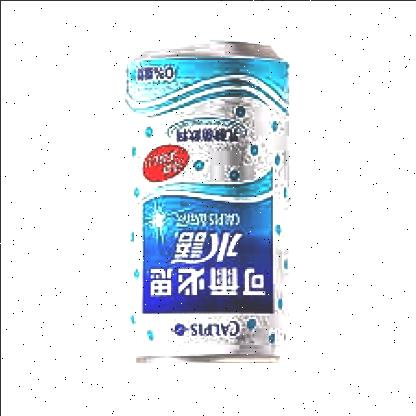Can: (114, 27, 302, 375)
